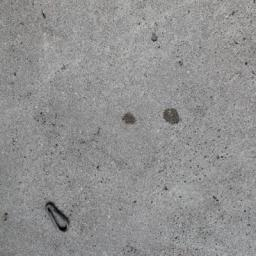FOD: (44, 198, 72, 235)
